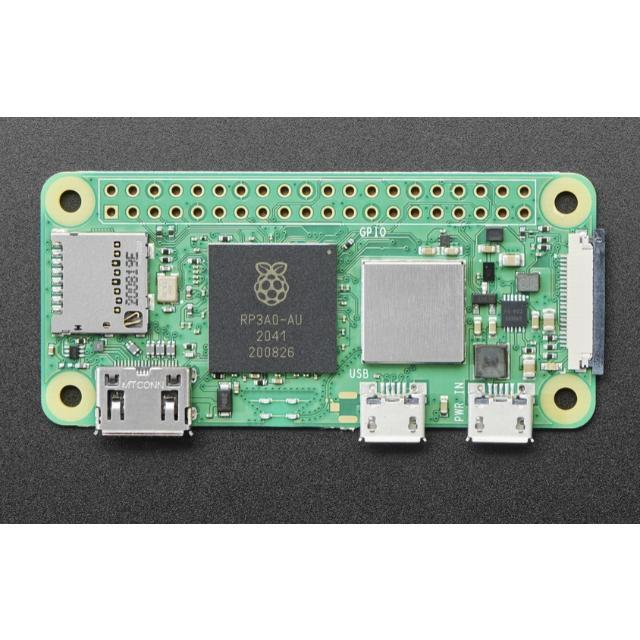Raspberry-Pi-Zero-2-W: (41, 172, 605, 444)
